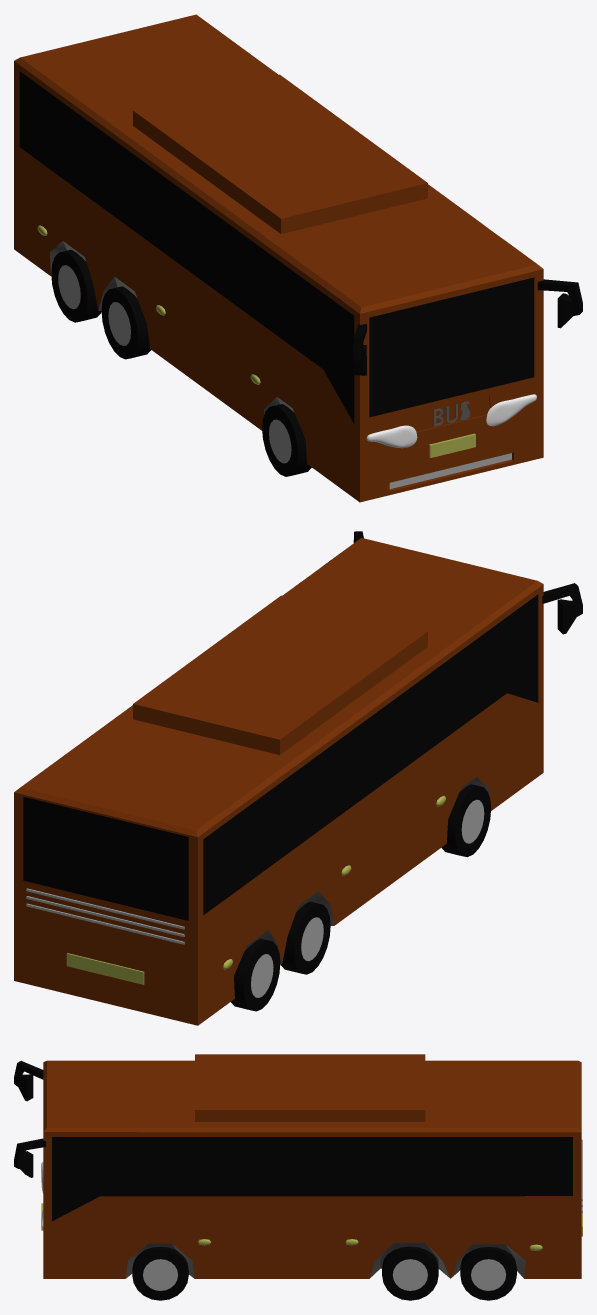
Rendered from Bus_02.fbx.
3 views of the same model, one above another, from view 1: azimuth 30°, elevation 25°; view 2: azimuth 150°, elevation 25°; view 3: azimuth 270°, elevation 25° (orthographic). The views are drawn at different scales.
Parts seen in each view (by area): view 1: Bus_01, polySurface34, polySurface36, polySurface32, pCube129, pCube130, pCube134; view 2: Bus_01, polySurface36, polySurface34, polySurface32, pCube129, pCube135; view 3: Bus_01, polySurface33, polySurface35, polySurface31, pCube129.
Part boxes in pixels (x1,y1,x2,y2): Bus_01: (14, 14, 543, 502); polySurface34: (101, 286, 150, 359); polySurface36: (51, 250, 101, 322); polySurface32: (262, 404, 311, 476); pCube129: (353, 279, 582, 375); pCube130: (366, 394, 536, 448); pCube134: (429, 433, 475, 457); Bus_01: (14, 538, 543, 1025); polySurface36: (231, 938, 280, 1011); polySurface34: (280, 901, 330, 974); polySurface32: (441, 784, 491, 857); pCube129: (353, 531, 582, 634); pCube135: (66, 953, 144, 984); Bus_01: (43, 1054, 581, 1278); polySurface33: (382, 1246, 438, 1300); polySurface35: (460, 1247, 516, 1300); polySurface31: (132, 1246, 188, 1300); pCube129: (14, 1061, 45, 1177).
Bounding box in the file's own units: 93.54 × 91.11 × 258.
